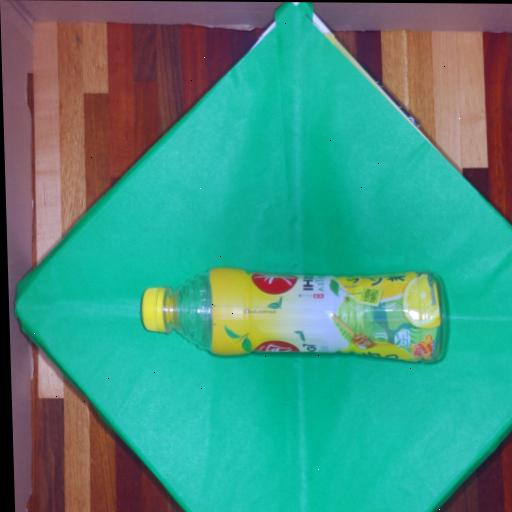bottle: (129, 237, 480, 372)
